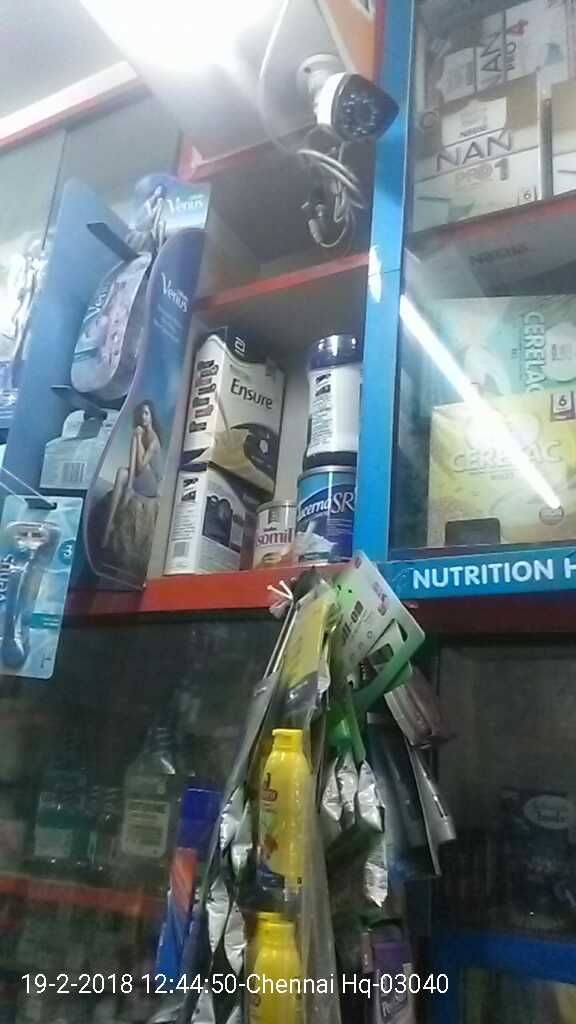venus: (56, 238, 150, 410), (1, 488, 76, 671)
